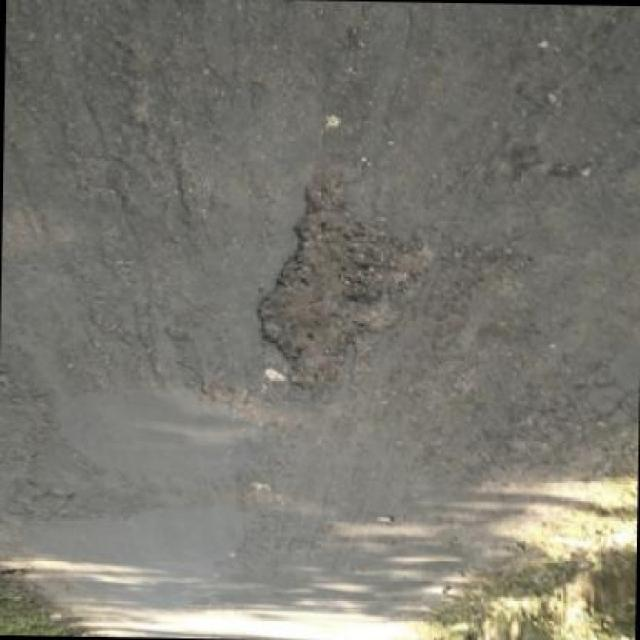pothole1: (248, 168, 434, 406)
